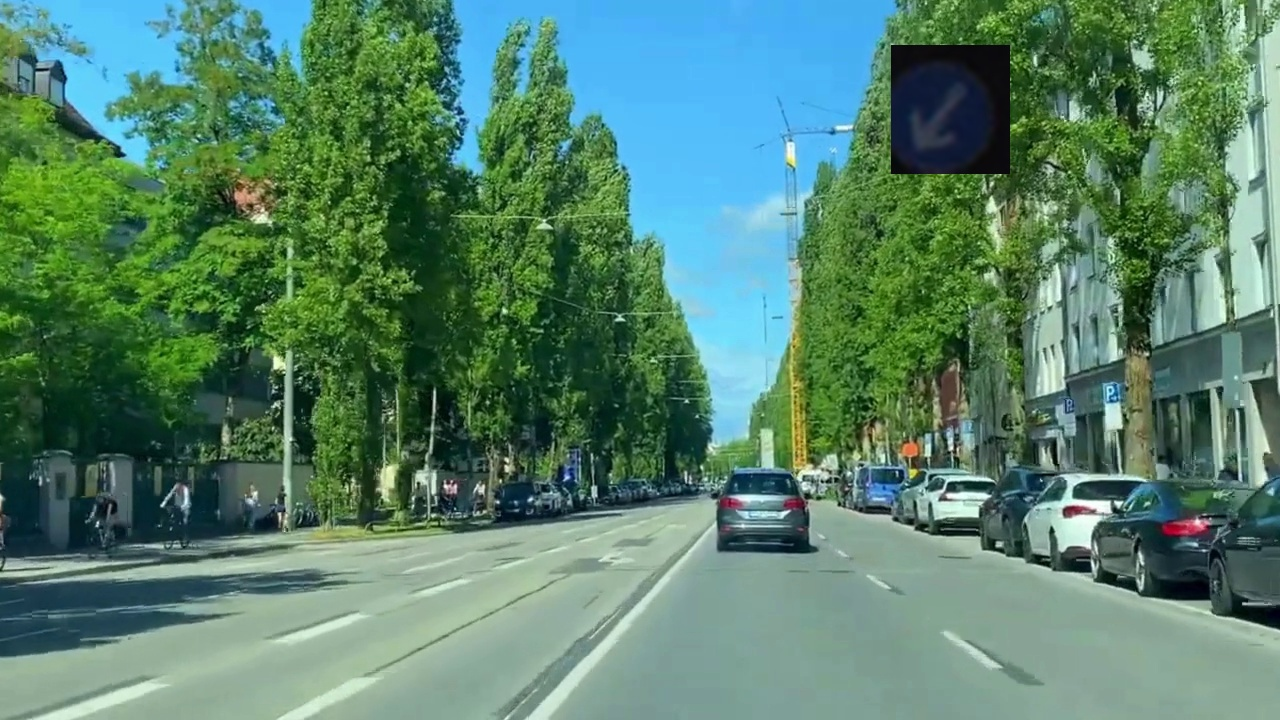Keep left: (891, 45, 1010, 174)
